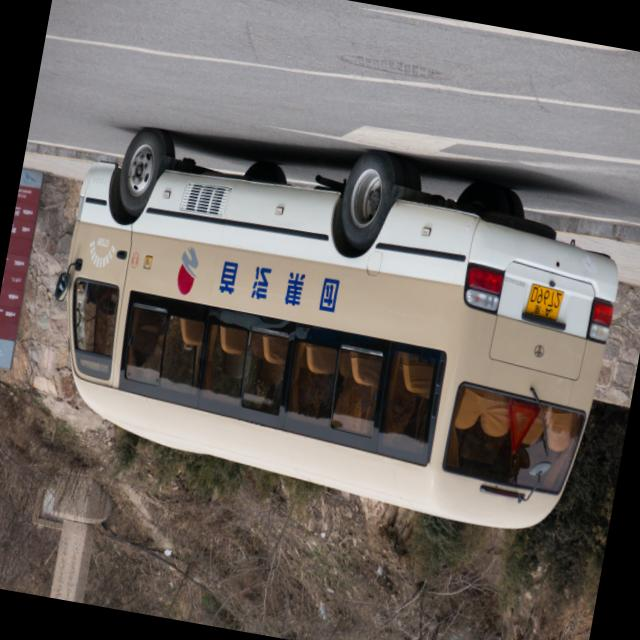bus: (28, 116, 634, 540)
